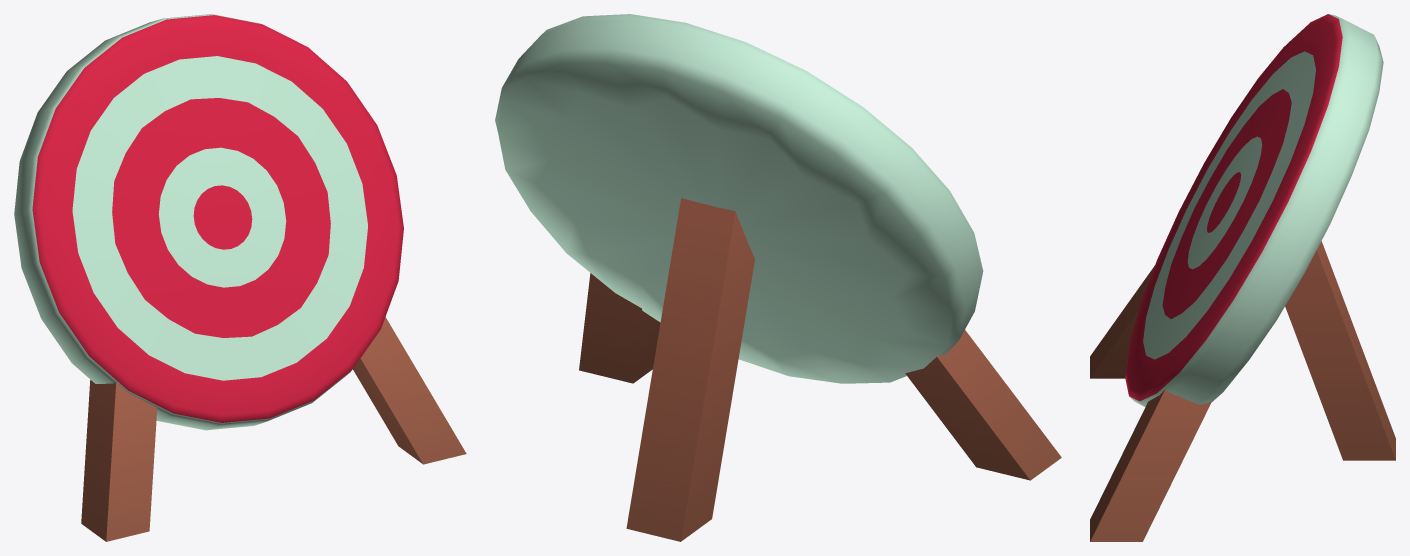
File: TestingTarget.fbx
3 views of the same model, side by side, from view 1: azimuth 30°, elevation 25°; view 2: azimuth 150°, elevation 25°; view 3: azimuth 270°, elevation 25° (orthographic). The views are drawn at different scales.
Parts seen in each view (by area): view 1: Cylinder.009; view 2: Cylinder.009; view 3: Cylinder.009.
Boxes of the visible parts, x1,y1,x2,y2 form: Cylinder.009: [14, 14, 466, 541]; Cylinder.009: [495, 14, 1061, 541]; Cylinder.009: [1090, 14, 1395, 541].
Bounding box in the file's own units: 191 × 198 × 133.
